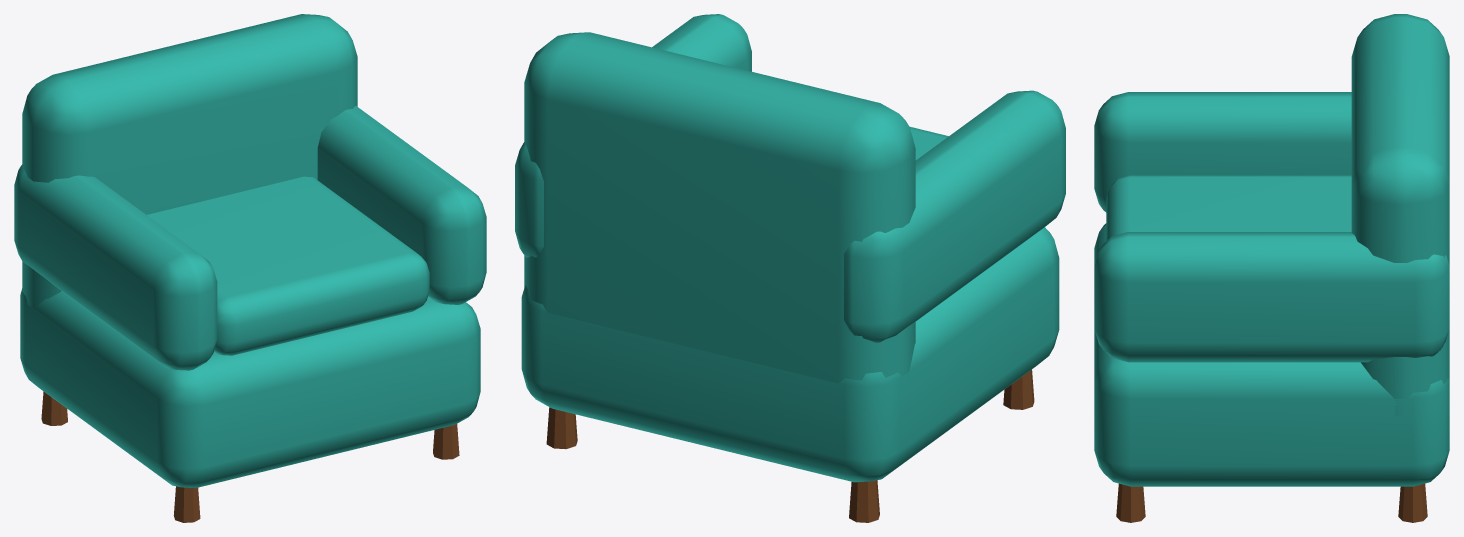
The model's file is Armchair.fbx.
3 renders of one model, left to right at view 1: azimuth 30°, elevation 25°; view 2: azimuth 150°, elevation 25°; view 3: azimuth 270°, elevation 25°, orthographic. The views are drawn at different scales.
Visible parts, largest first — view 1: Armchair; view 2: Armchair; view 3: Armchair.
Part boxes in pixels (x1,y1,x2,y2): Armchair: (14,14,486,522); Armchair: (515,14,1065,522); Armchair: (1094,14,1449,522).
Size of the model in its own units: 3.3 by 3.3 by 2.9.
Materials: 1 (1 with a texture image).
